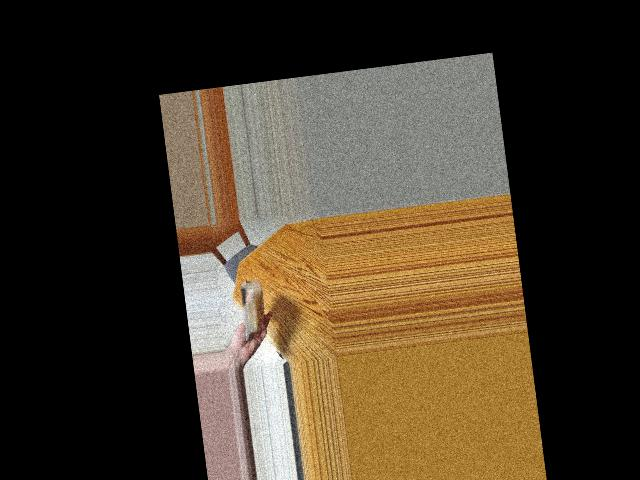cheese: (228, 283, 269, 338)
